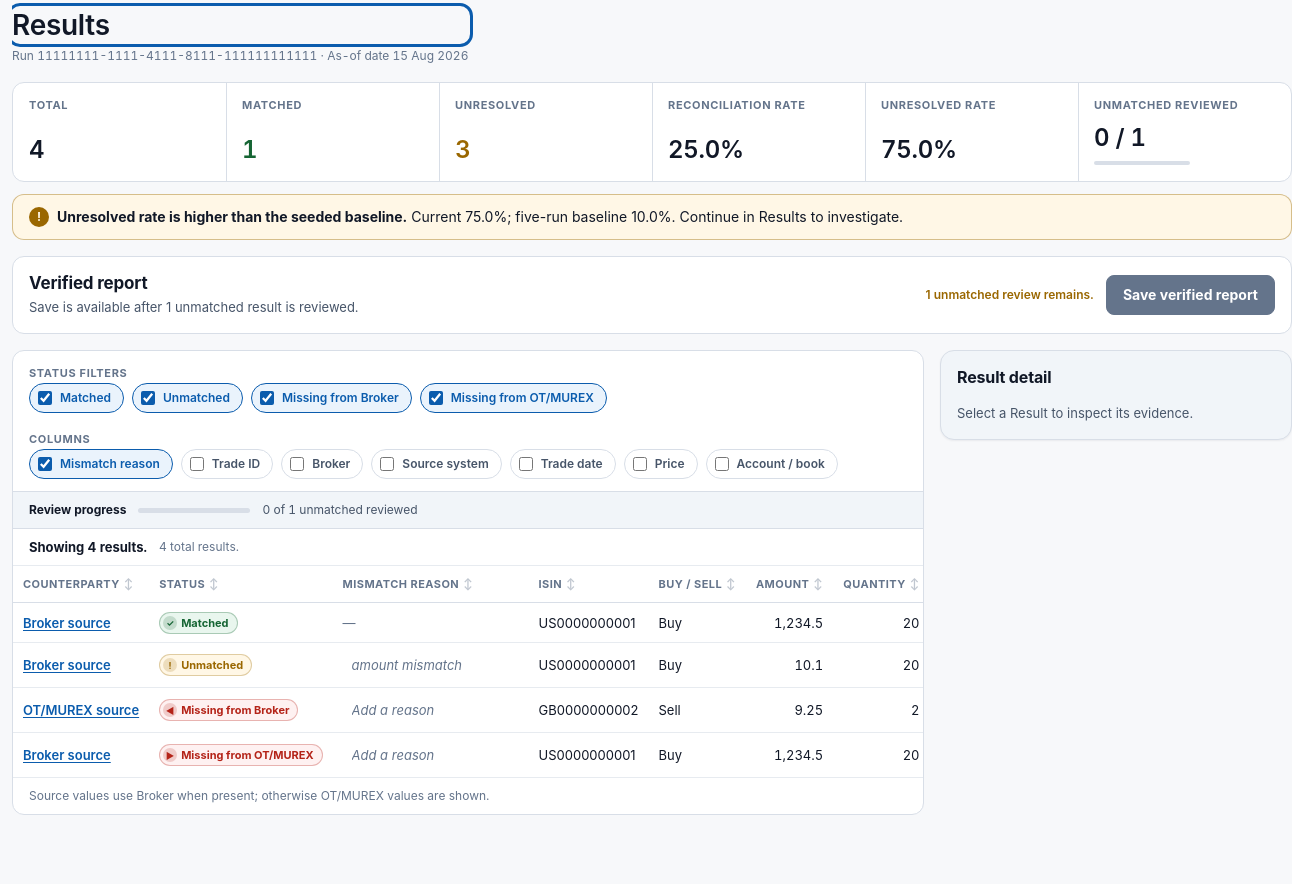
Scenario: Results workspace table › does not submit a preview for an unmatched Result with no broker details
This screenshot has width=1292, height=884.
Click the button with aria-label "Select BRK-8" at (67, 665), box [23,655,111,675]
(page scrolled)
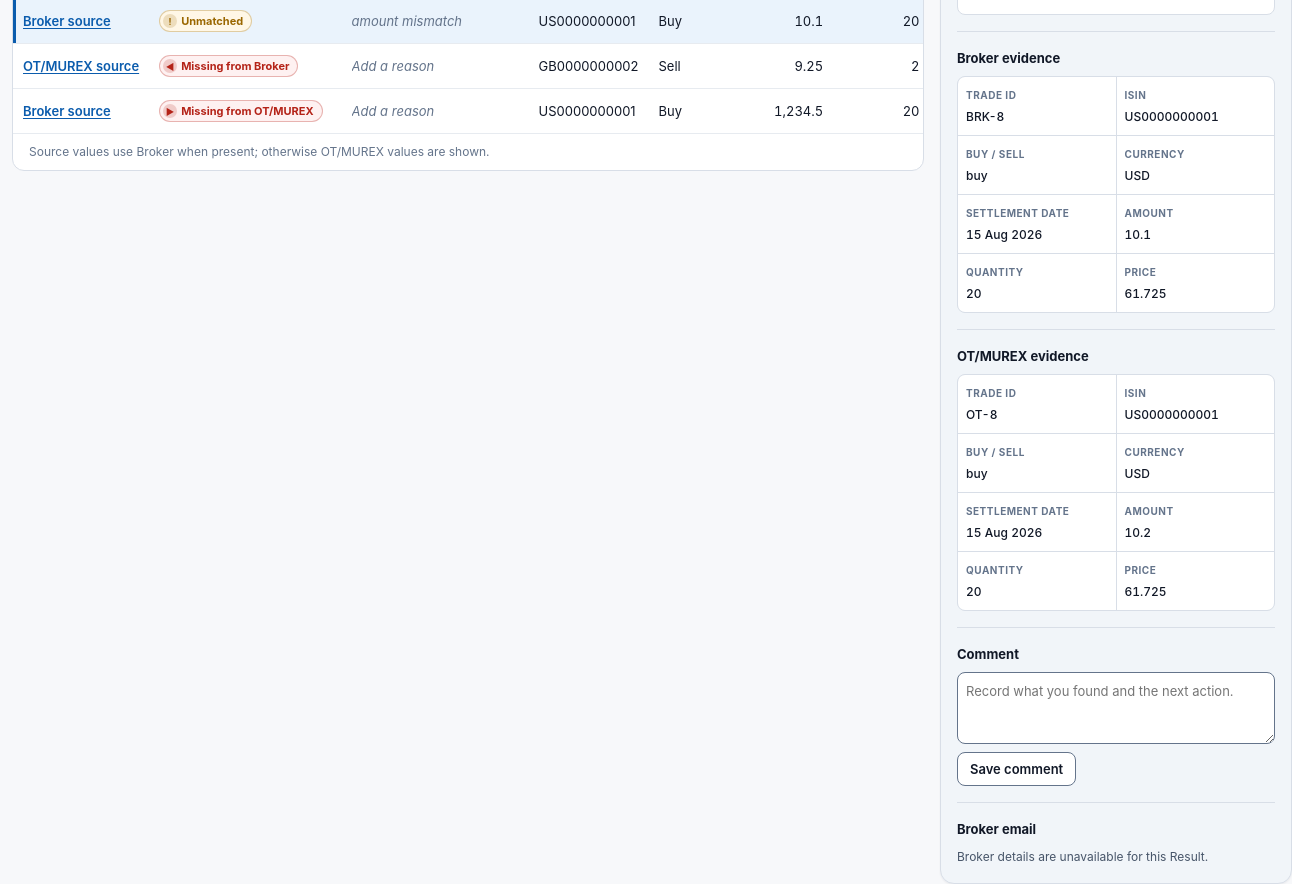
Result: the text "Broker details are unavailable for this Result." is shown at [957,849,1208,864]
